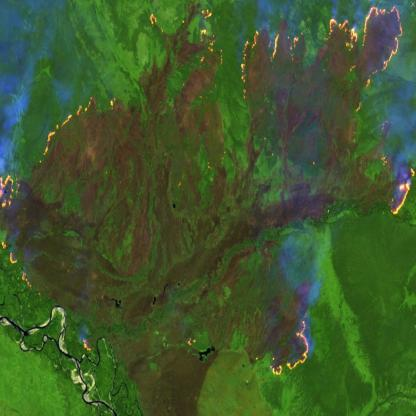fire: (238, 0, 415, 218), (0, 84, 94, 298), (146, 3, 226, 70), (267, 308, 314, 384)
